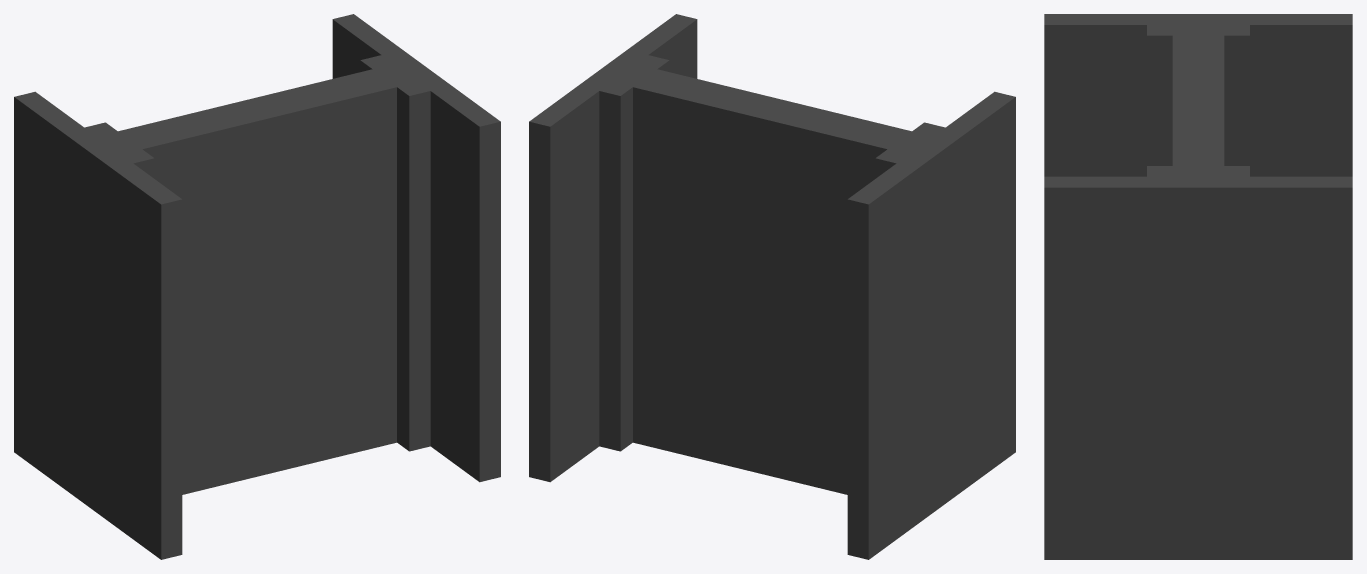
Rendered from ibeam.obj.
3 renders of one model, left to right at view 1: azimuth 30°, elevation 25°; view 2: azimuth 150°, elevation 25°; view 3: azimuth 270°, elevation 25°, orthographic. The views are drawn at different scales.
Bounding box in the file's own units: 1.6 × 1.6 × 1.2.
Materials: 1 (1 with a texture image).
